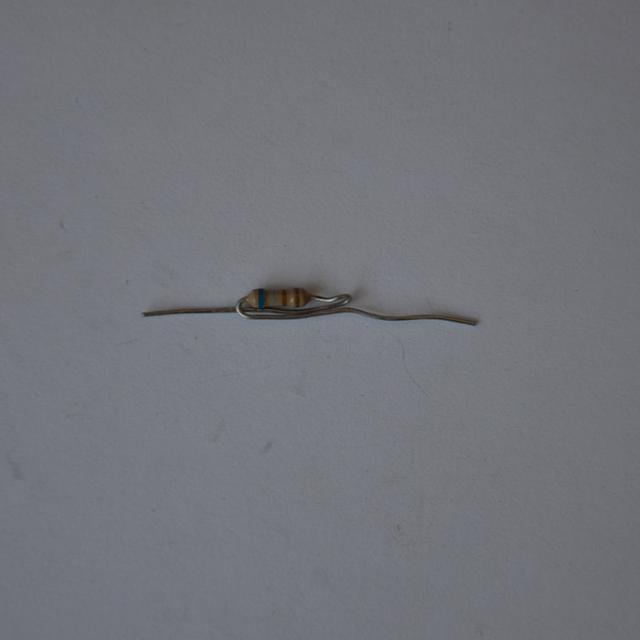blue: (260, 289, 264, 307)
gold: (294, 288, 298, 306), (281, 290, 285, 306)
grey: (269, 289, 276, 306)
resistor: (241, 270, 315, 313)
